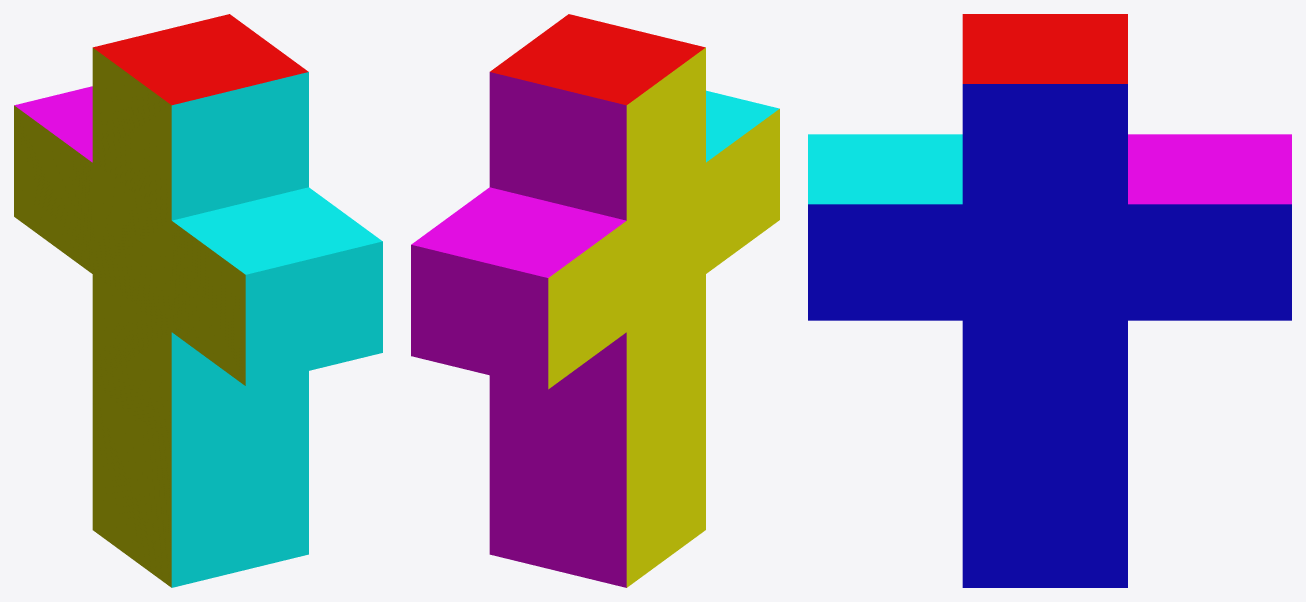
Rendered from UnikCross.fbx.
3 renders of one model, left to right at view 1: azimuth 30°, elevation 25°; view 2: azimuth 150°, elevation 25°; view 3: azimuth 270°, elevation 25°, orthographic. The views are drawn at different scales.
Parts seen in each view (by area): view 1: cross; view 2: cross; view 3: cross.
Boxes of the visible parts, x1=… form: cross: x1=14, y1=14, x2=382, y2=587; cross: x1=411, y1=14, x2=779, y2=587; cross: x1=808, y1=14, x2=1291, y2=587.
Size of the model in its own units: 200 by 673 by 585.
